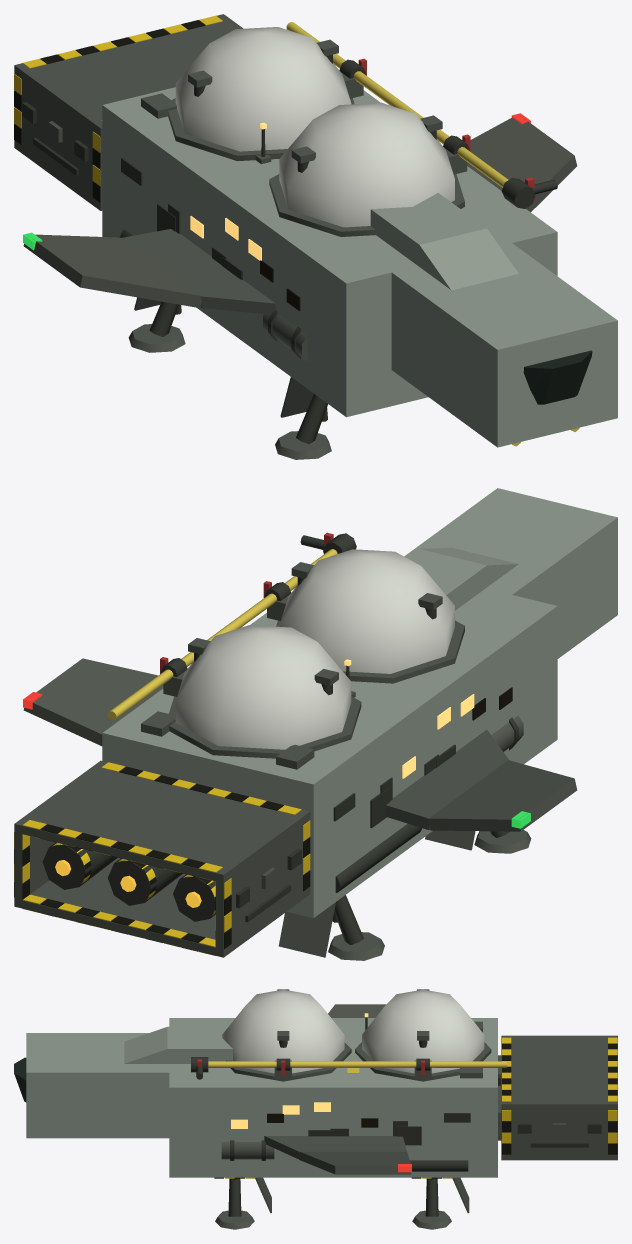
File: h2_freighter-s(2).glb
3 views of the same model, one above another, from view 1: azimuth 30°, elevation 25°; view 2: azimuth 150°, elevation 25°; view 3: azimuth 270°, elevation 25° (orthographic). The views are drawn at different scales.
Visible parts, largest first — view 1: hullMain, hullNose, pressureTank0, pressureTank1, shroudPlateTop, canopyFairing, wingOuterLeft, wingInnerLeft, wingOuterRight, shroudPlateLeft, cockpitGlass, gearFoot (×2) (+9 smaller); view 2: hullMain, shroudPlateTop, pressureTank1, hullNose, pressureTank0, shroudPlateBottom, wingOuterLeft, wingOuterRight, engineHousing (×3), wingInnerLeft, shroudPlateLeft, canopyFairing (+9 smaller); view 3: hullMain, hullNose, shroudPlateTop, pressureTank1, pressureTank0, shroudPlateRight, canopyFairing, wingOuterRight, wingInnerRight, h2Manifold, gearFoot (×2), gearStrut (×2) (+9 smaller).
Boxes of the visible parts, x1,y1,x2,y2 form: hullMain: [102, 87, 557, 417]; hullNose: [382, 236, 617, 447]; pressureTank0: [279, 102, 454, 227]; pressureTank1: [175, 27, 351, 151]; shroudPlateTop: [14, 14, 242, 136]; canopyFairing: [370, 193, 518, 290]; wingOuterLeft: [23, 234, 201, 307]; wingInnerLeft: [123, 229, 275, 314]; wingOuterRight: [467, 115, 577, 212]; shroudPlateLeft: [14, 73, 102, 202]; cockpitGlass: [523, 350, 592, 404]; gearFoot (×2): [128, 324, 331, 459]; hullMain: [102, 588, 557, 918]; shroudPlateTop: [14, 760, 310, 882]; pressureTank1: [175, 625, 351, 749]; hullNose: [404, 488, 617, 658]; pressureTank0: [279, 549, 454, 673]; shroudPlateBottom: [14, 857, 310, 957]; wingOuterLeft: [428, 760, 577, 831]; wingOuterRight: [23, 658, 163, 746]; engineHousing (×3): [42, 842, 215, 921]; wingInnerLeft: [386, 729, 508, 829]; shroudPlateLeft: [216, 820, 309, 949]; canopyFairing: [407, 547, 518, 610]; hullMain: [169, 1018, 497, 1177]; hullNose: [26, 1033, 176, 1138]; shroudPlateTop: [501, 1035, 617, 1109]; pressureTank1: [362, 989, 484, 1073]; pressureTank0: [222, 989, 344, 1073]; shroudPlateRight: [501, 1110, 617, 1154]; canopyFairing: [124, 1026, 232, 1063]; wingOuterRight: [299, 1151, 411, 1174]; wingInnerRight: [264, 1136, 406, 1159]; h2Manifold: [208, 1061, 506, 1067]; gearFoot (×2): [215, 1210, 451, 1229]; gearStrut (×2): [228, 1178, 438, 1216].
Size of the model in its own units: 4.48 by 2.48 by 6.98.
